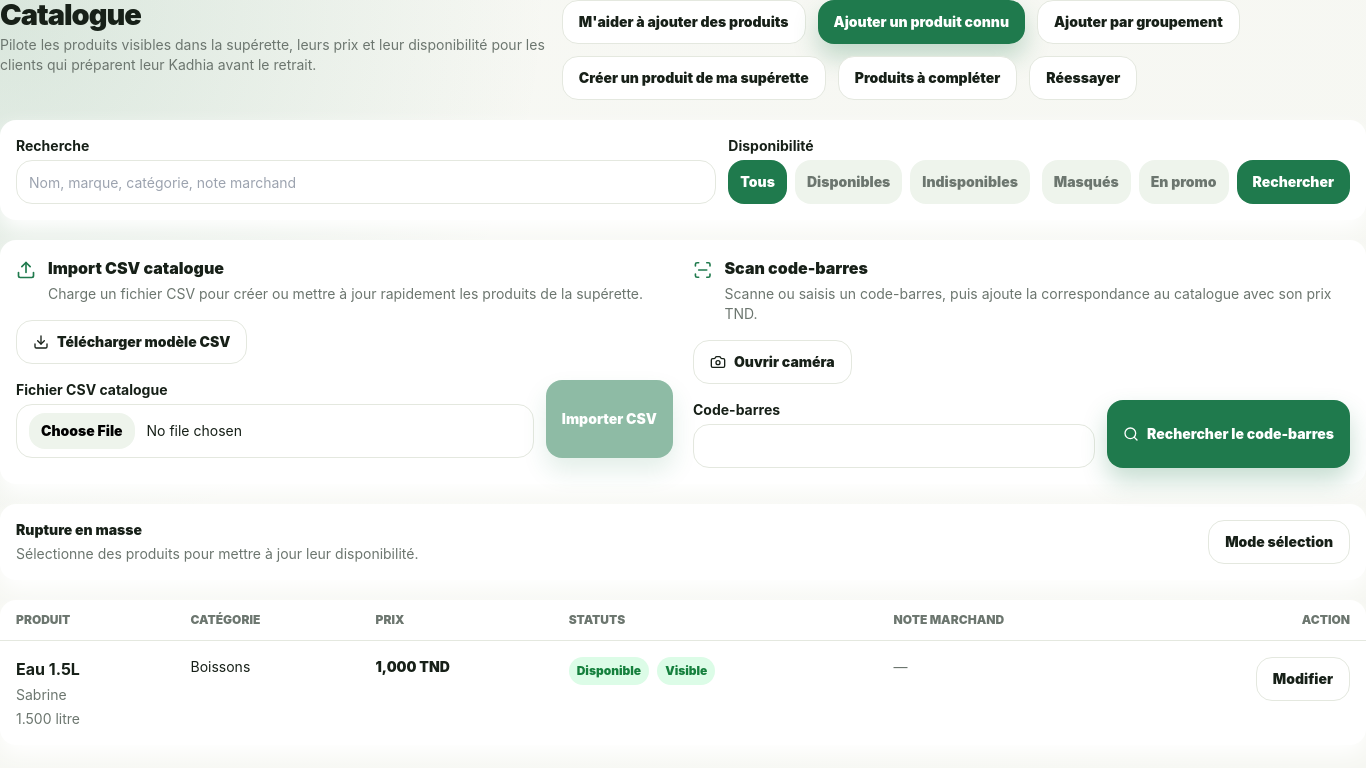
Scenario: MerchantCatalogPage product groups › opens product groups, selects only new lines by default, imports them, and refreshes the catalog
The width and height of the screenshot is (1366, 768).
Step 1. Click the button "Ajouter par groupement" → (1138,22), box top-left (1037, 0), bottom-right (1240, 44)
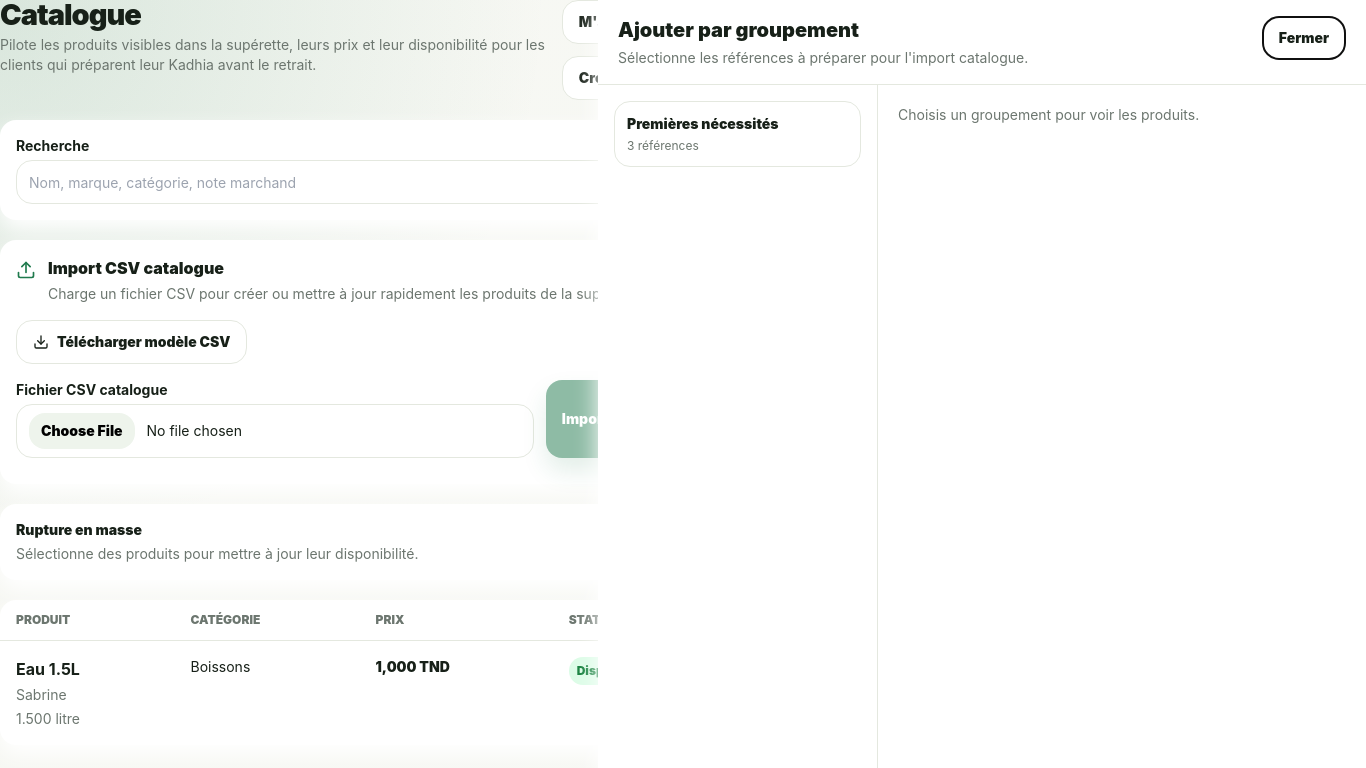
Step 2. Click the button "Premières nécessités 3 références" → (738,134), box top-left (614, 101), bottom-right (861, 167)
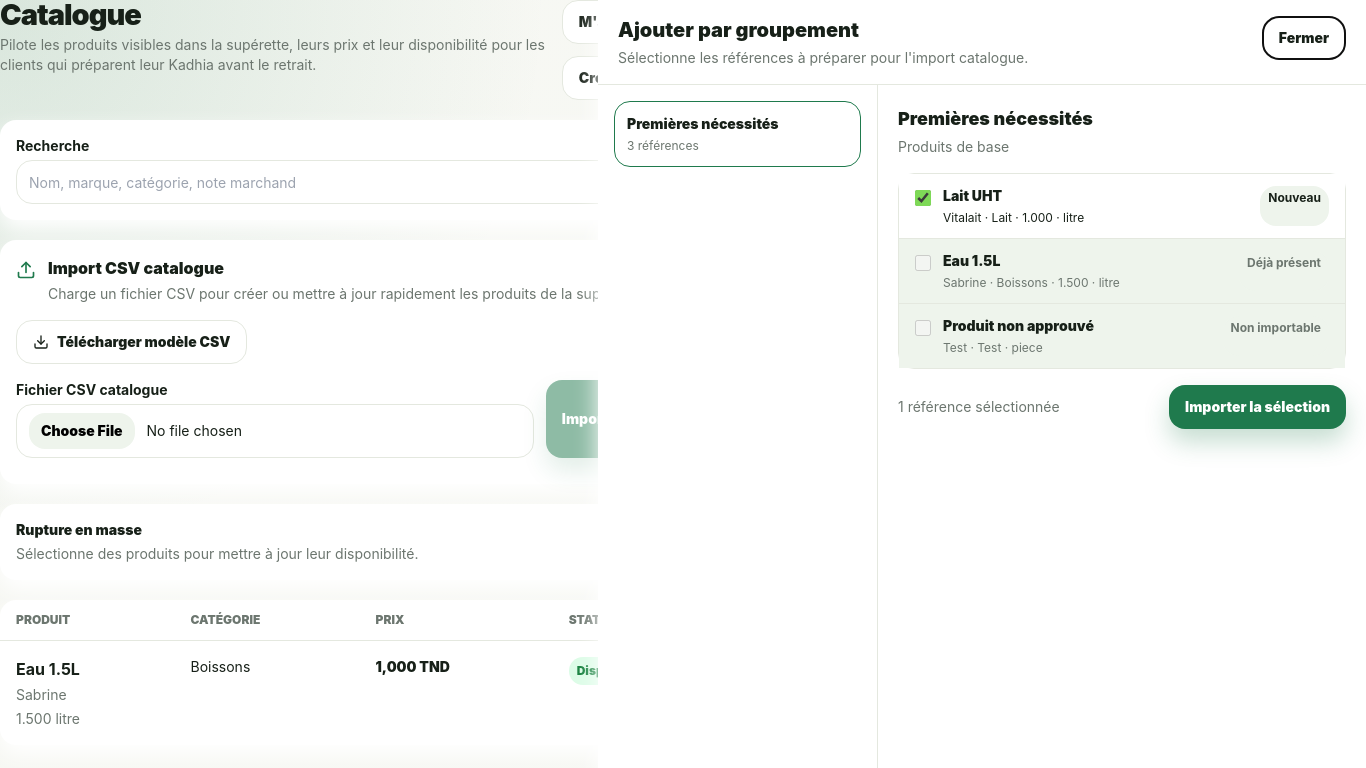
expect the checkbox labelled "Lait UHT Vitalait · Lait · 1.000 · litre Nouveau" is checked: met, box top-left (915, 190), bottom-right (931, 206)
expect the checkbox labelled "Eau 1.5L Sabrine · Boissons · 1.500 · litre Déjà présent" is disabled: met, box top-left (915, 255), bottom-right (931, 271)
expect the checkbox labelled "Produit non approuvé Test · Test · piece Non importable" is disabled: met, box top-left (915, 320), bottom-right (931, 336)
Step 3. Click the button "Importer la sélection" → (1258,407), box top-left (1169, 385), bottom-right (1346, 429)
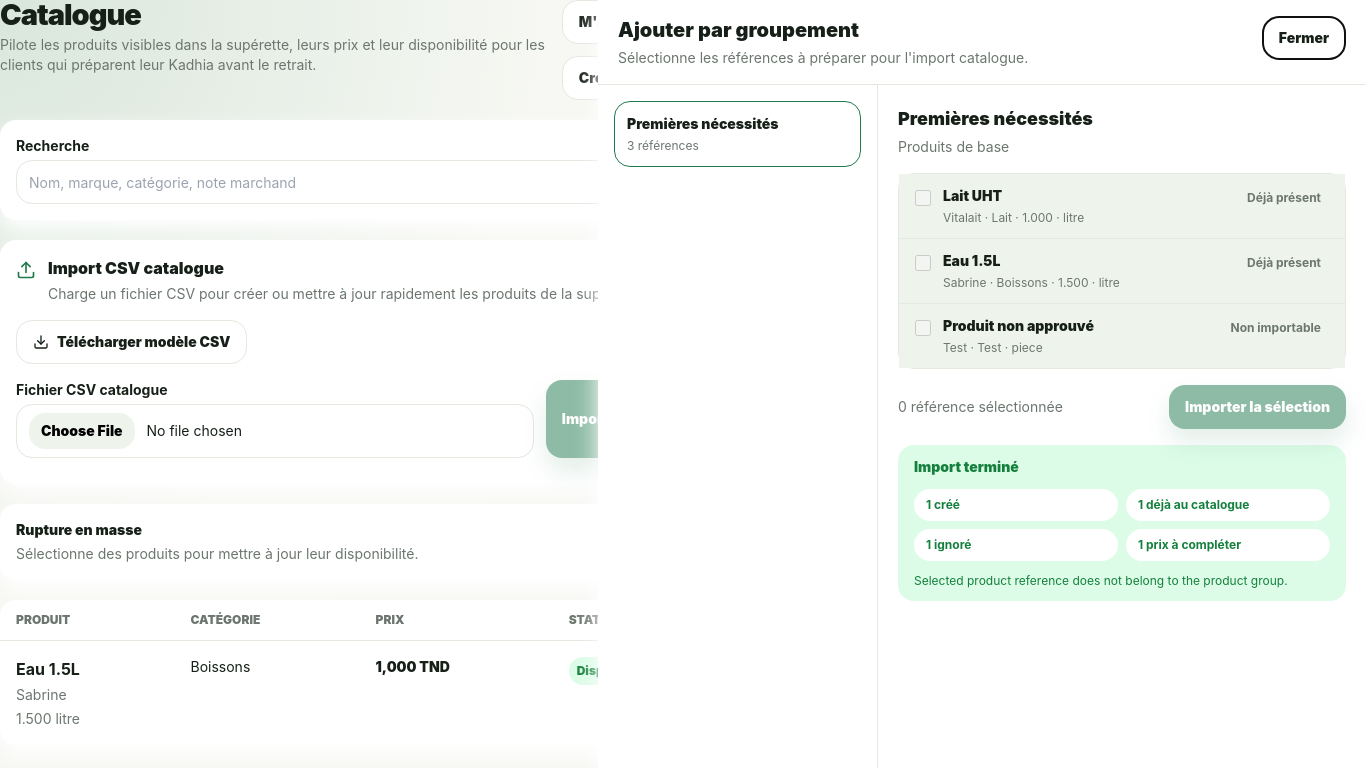
expect the text "Import terminé" is shown: met, box top-left (914, 458), bottom-right (1019, 475)
expect the text "1 créé" is shown: met, box top-left (914, 489), bottom-right (1118, 521)
expect the text "1 déjà au catalogue" is shown: met, box top-left (1126, 489), bottom-right (1330, 521)
